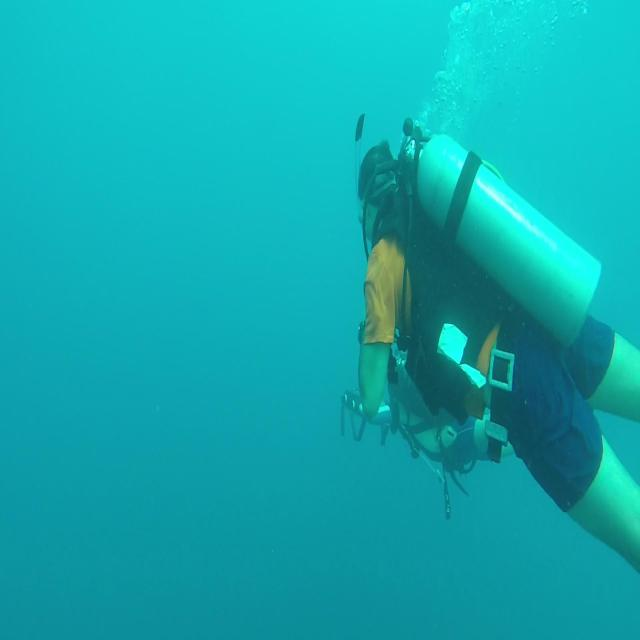human: (354, 120, 639, 572)
